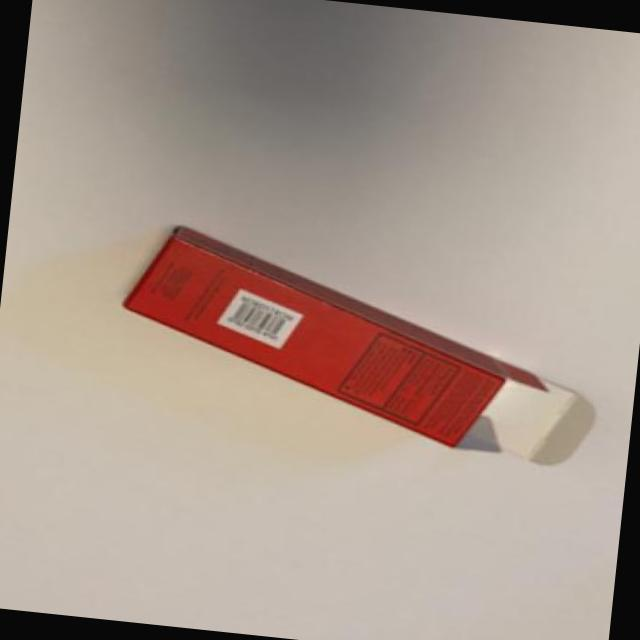paper: (84, 209, 560, 473)
